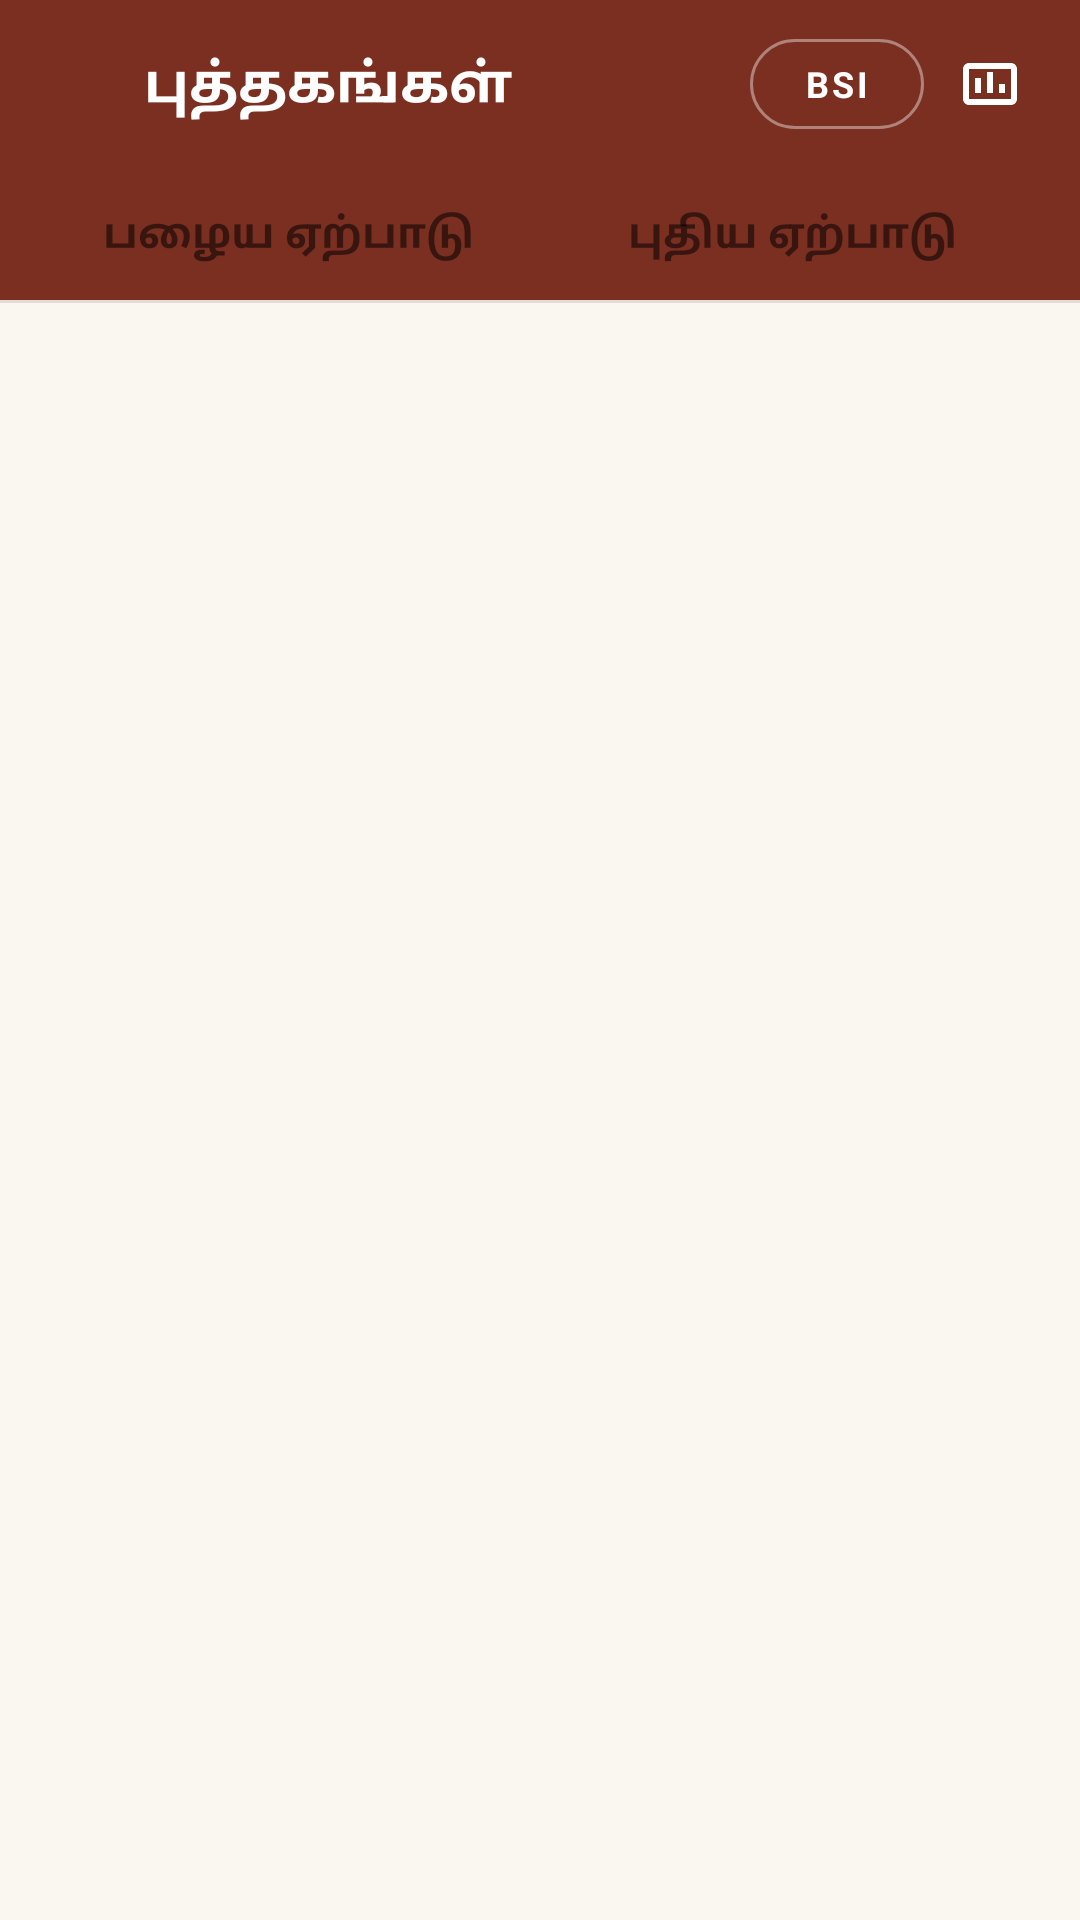

Where to tap for icons on this 1080 × 1920 app screen, as (x,y):
வாசிப்பு முன்னேற்றம்: (990,84)
